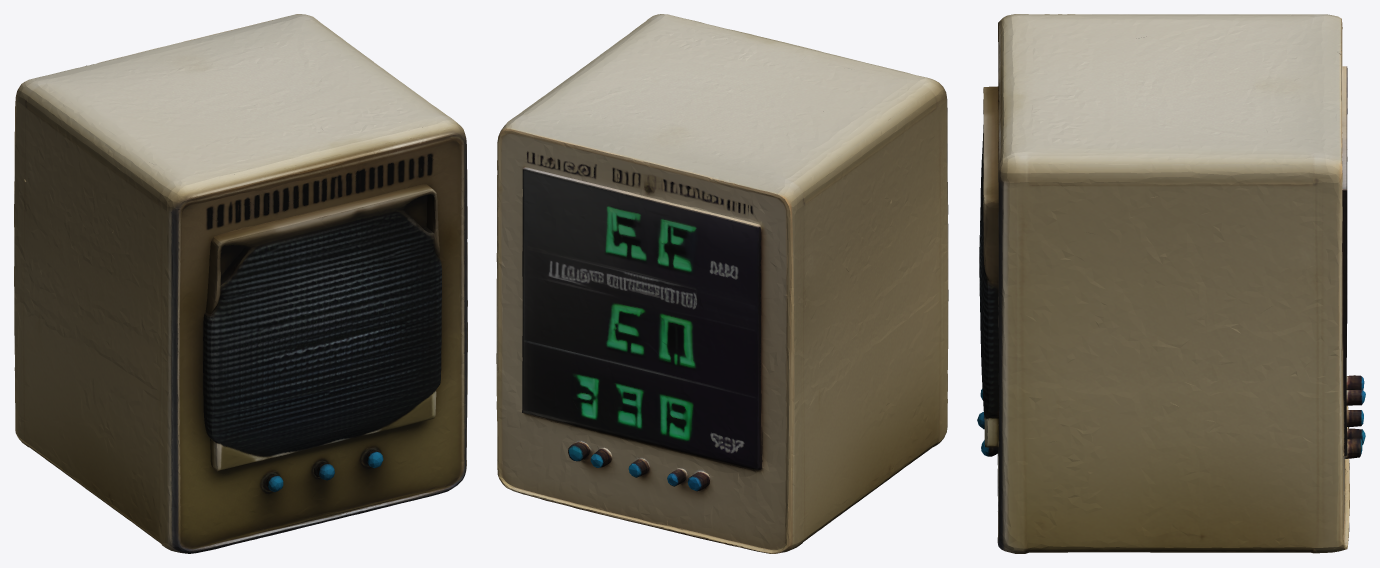
The picture shows the model from 3 angles, left to right: view 1: azimuth 30°, elevation 25°; view 2: azimuth 150°, elevation 25°; view 3: azimuth 270°, elevation 25°; orthographic projection. The views are drawn at different scales.
Visible parts, largest first — view 1: world; view 2: world; view 3: world.
Boxes of the visible parts, x1,y1,x2,y2 form: world: [14, 14, 467, 553]; world: [496, 14, 948, 553]; world: [977, 14, 1365, 553].
Size of the model in its own units: 0.8421 by 0.9892 by 0.8729.
1 material, 1 textured.
